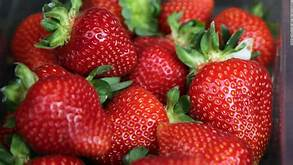Fresa: (183, 51, 275, 163), (13, 70, 116, 162), (51, 4, 141, 84), (151, 118, 257, 165)
